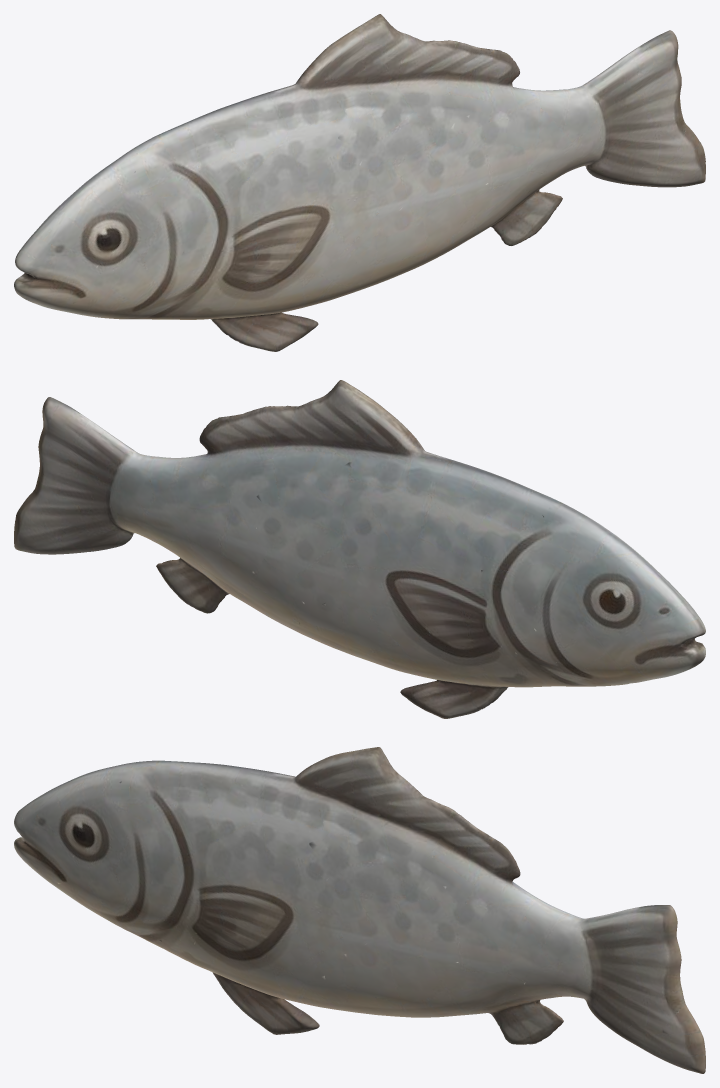
3 views of the same model, one above another, from view 1: azimuth 30°, elevation 25°; view 2: azimuth 150°, elevation 25°; view 3: azimuth 330°, elevation 25° (orthographic).
Bounding box in the file's own units: 2 × 0.8648 × 0.1856.
1 material, 1 textured.
